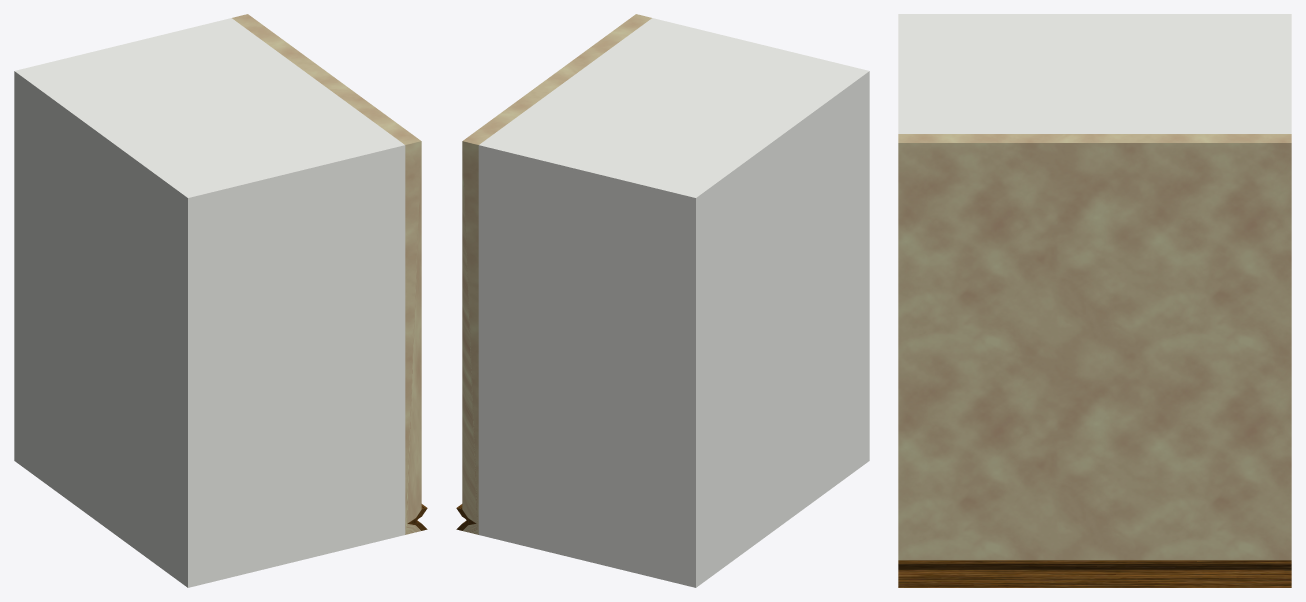
The model's file is KitchenCupboards.FBX.
3 renders of one model, left to right at view 1: azimuth 30°, elevation 25°; view 2: azimuth 150°, elevation 25°; view 3: azimuth 270°, elevation 25°, orthographic. The views are drawn at different scales.
Visible parts, largest first — view 1: Box001; view 2: Box001; view 3: Box001.
Boxes of the visible parts, x1,y1,x2,y2 form: Box001: (14, 14, 427, 587); Box001: (456, 14, 869, 587); Box001: (898, 14, 1291, 587).
Bounding box in the file's own units: 22.21 × 34.52 × 27.88.
3 materials, 3 textured.
